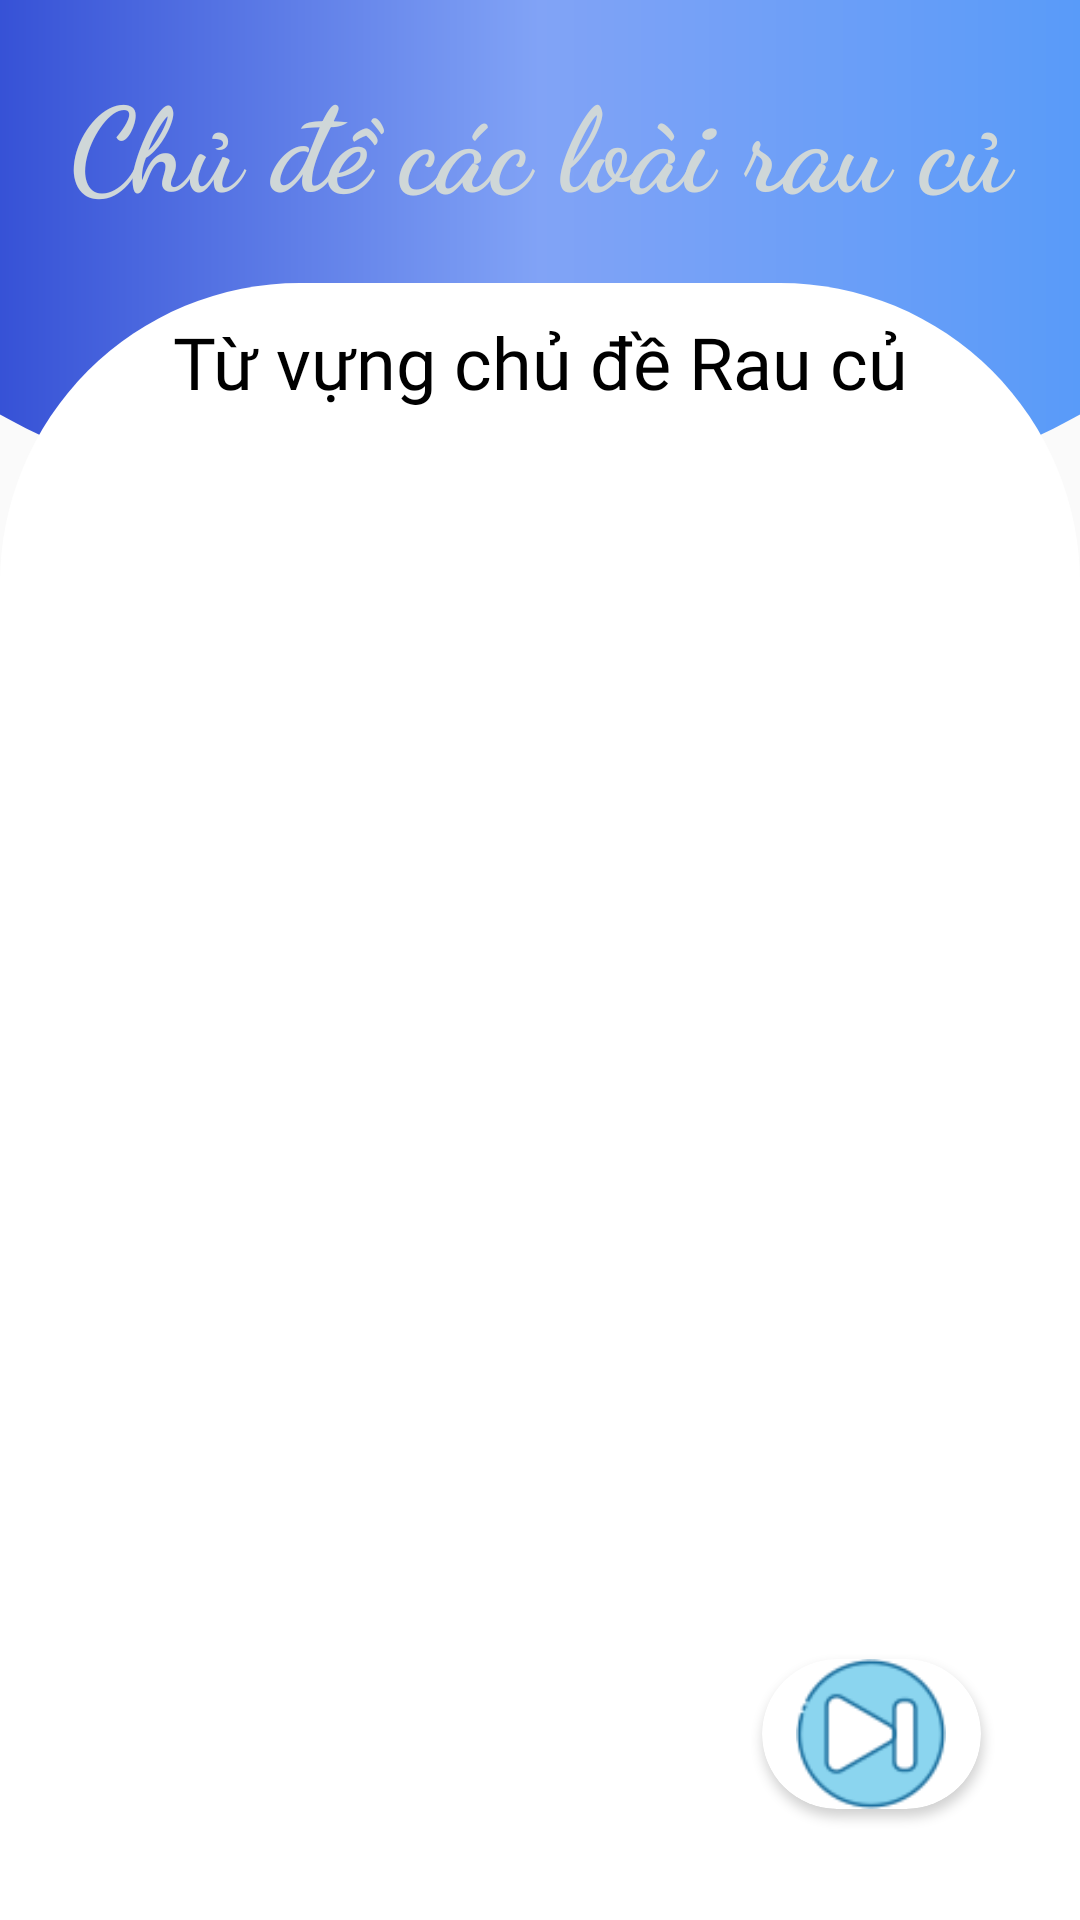

Icons on this 1080x1920 Android screen, each with the point to tap as point (x, y):
next: point (871, 1734)
